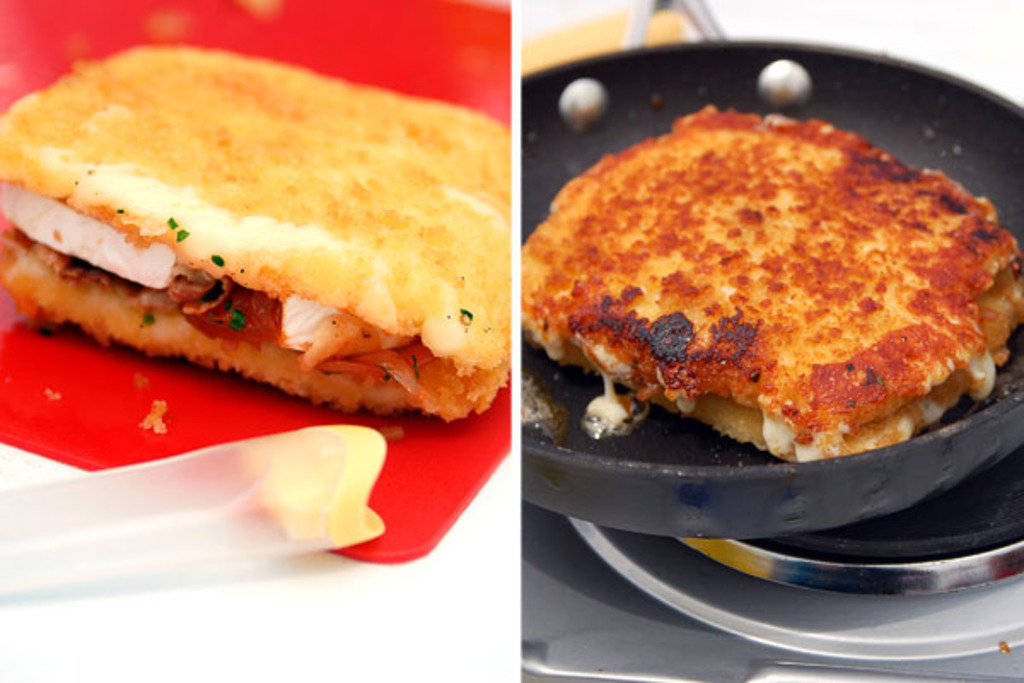sandwich: (0, 38, 510, 427), (519, 108, 1022, 452)
